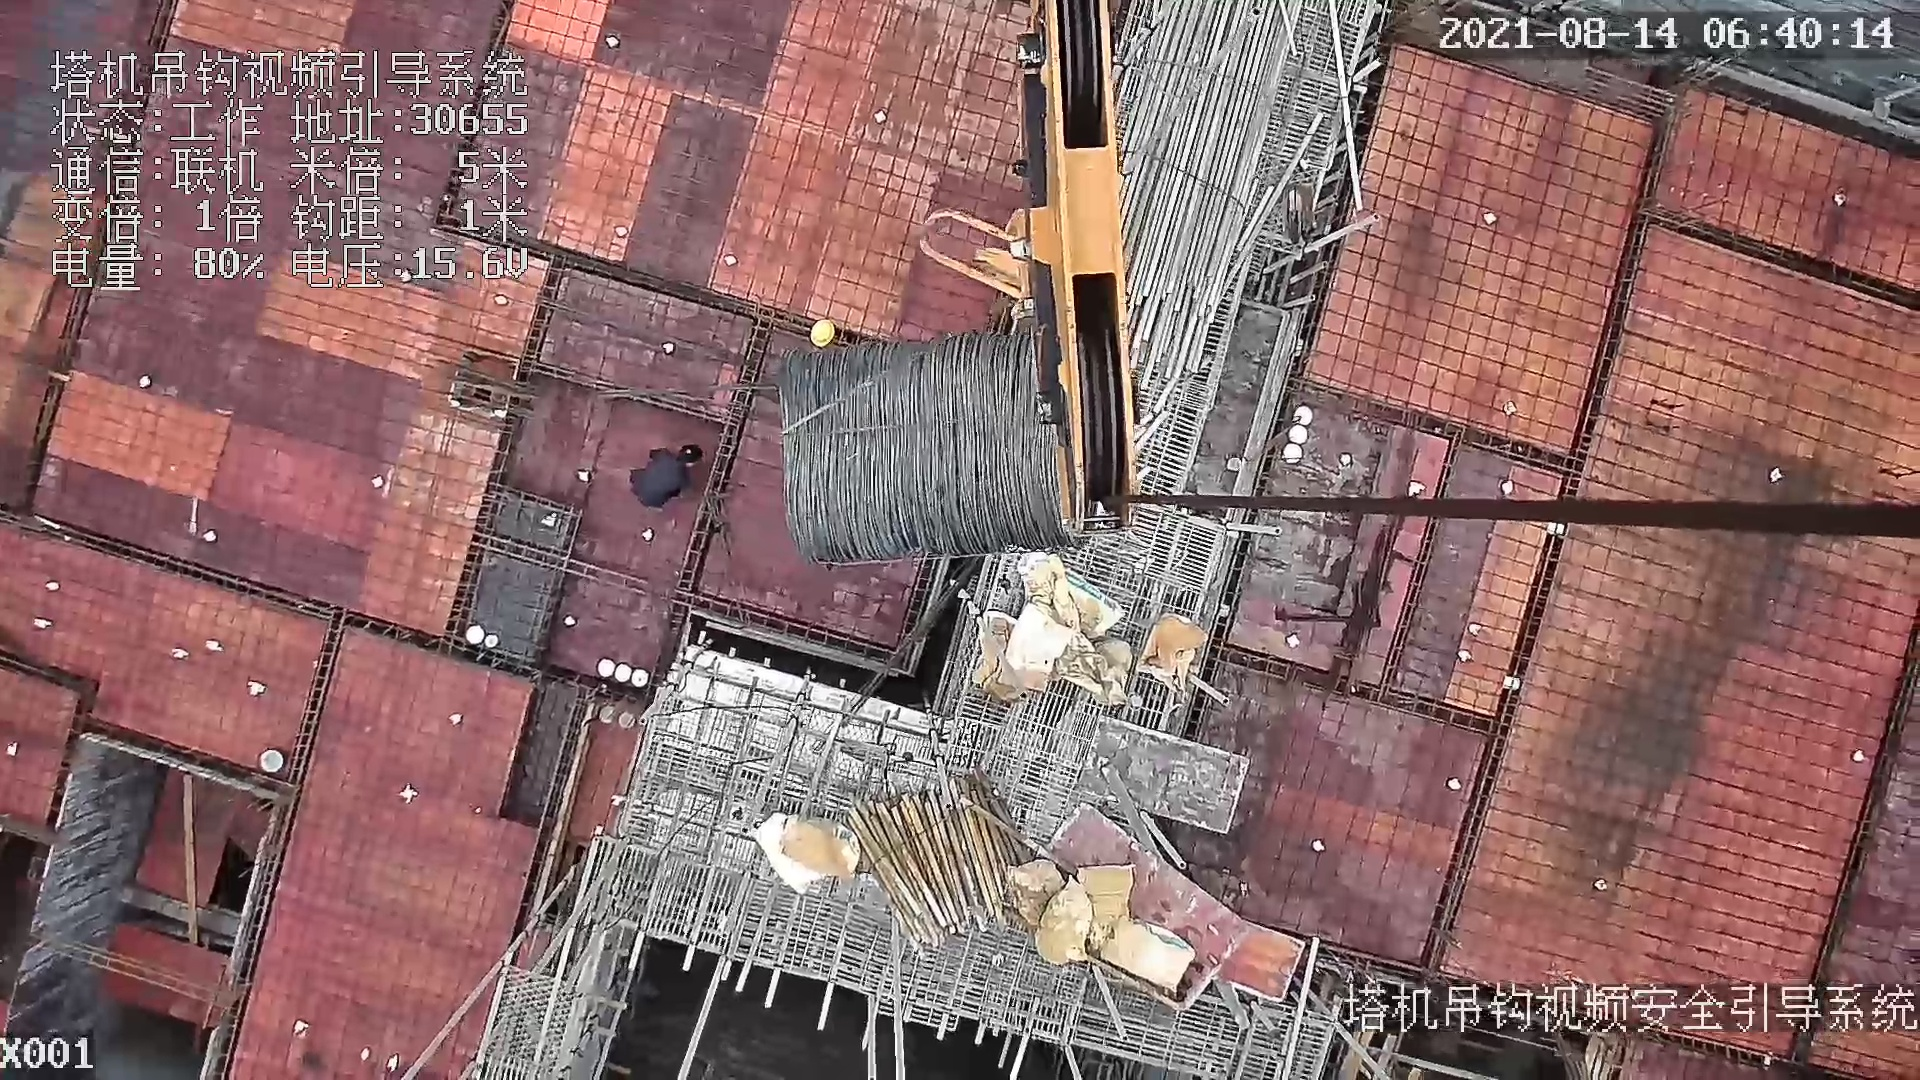helmet: (810, 317, 834, 342)
hook: (912, 1, 1136, 541)
person: (627, 442, 712, 510)
scaffold: (844, 768, 1008, 945)
